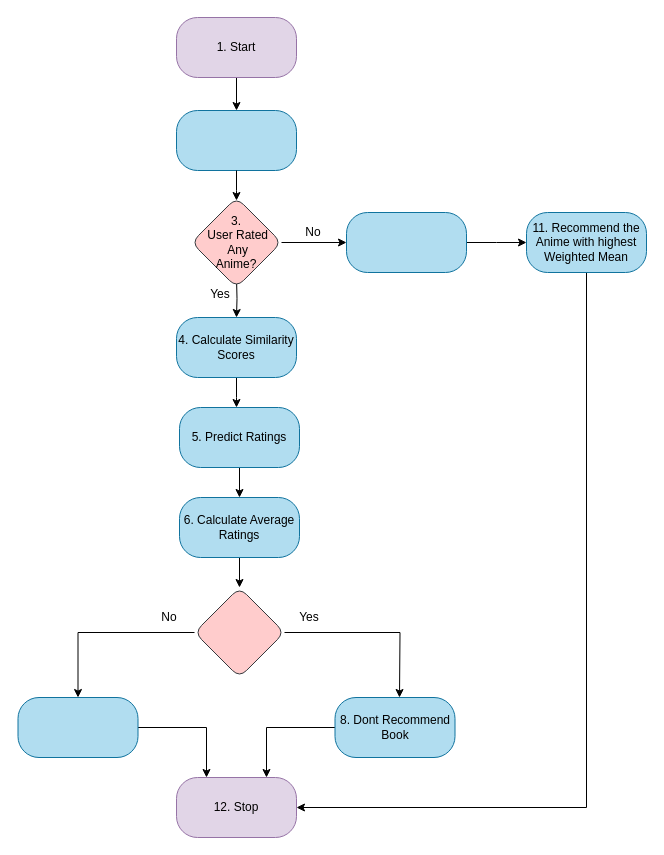
This 664x855 diagram has some shape labels left out. The shapes that lost their labels are listed below. From the top down, each one's box as (x1, y1, x2, y2) in pixels, then its label:
(176, 110, 296, 170): 2. Data Preparation
(346, 212, 466, 272): 10. Calculate Weighted Mean of each Anime
(194, 586, 284, 678): 7. Average < Predicted Rating?
(17, 696, 138, 758): 9. Recommend Book
